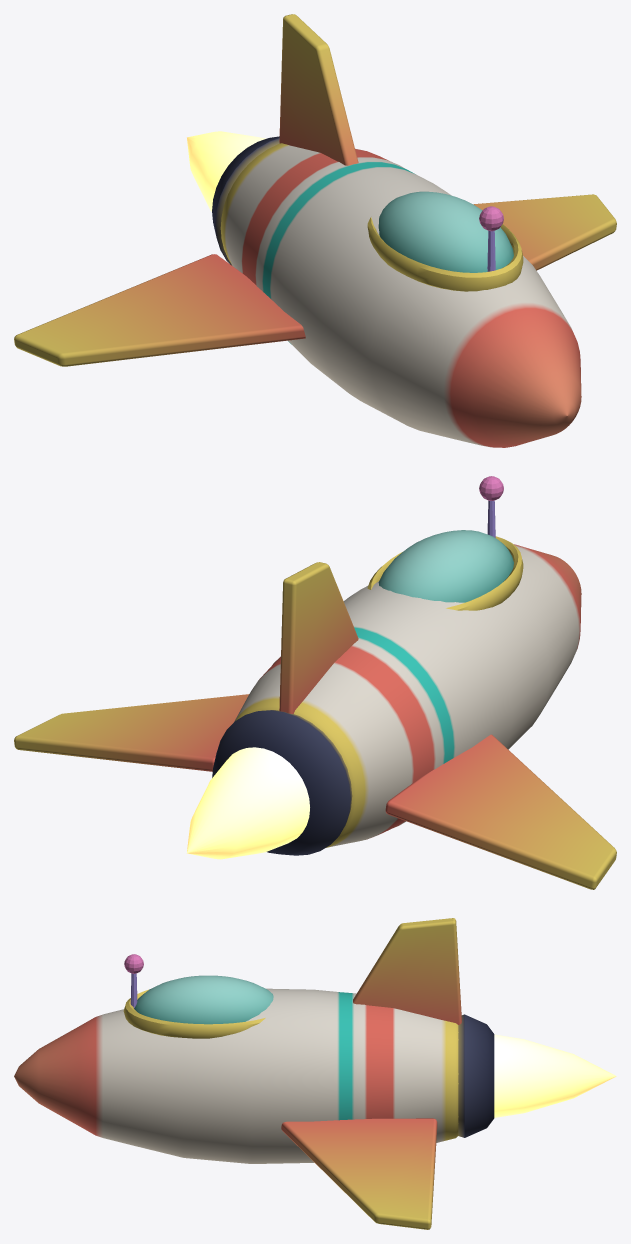
File: cohete.glb
3 renders of one model, top to bottom at view 1: azimuth 30°, elevation 25°; view 2: azimuth 150°, elevation 25°; view 3: azimuth 270°, elevation 25°, orthographic. The views are drawn at different scales.
Visible parts, largest first — view 1: Cuerpo, Ala izq, Ala der, Llama; view 2: Cuerpo, Ala izq, Ala der, Llama; view 3: Cuerpo, Ala der, Llama.
Part boxes in pixels (box(x1,y1,x2,y2)): Cuerpo: box(212, 14, 581, 447); Ala izq: box(14, 254, 305, 366); Ala der: box(473, 194, 616, 270); Llama: box(187, 131, 265, 211); Cuerpo: box(212, 476, 581, 855); Ala izq: box(385, 734, 616, 889); Ala der: box(14, 694, 249, 771); Llama: box(187, 747, 309, 859); Cuerpo: box(14, 918, 494, 1163); Ala der: box(281, 1118, 437, 1229); Llama: box(494, 1034, 616, 1117).
Size of the model in its own units: 4.3 by 2.11 by 4.87.
